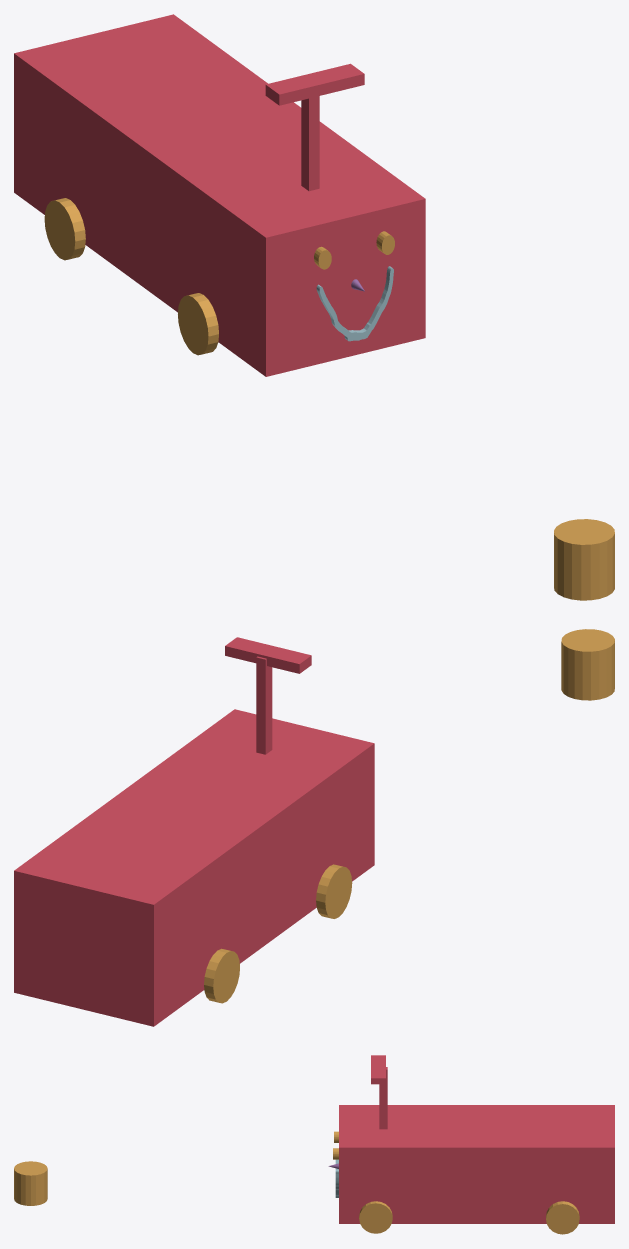
File: bus.glb
The picture shows the model from 3 angles, top to bottom: view 1: azimuth 30°, elevation 25°; view 2: azimuth 150°, elevation 25°; view 3: azimuth 270°, elevation 25°; orthographic projection. The views are drawn at different scales.
Visible parts, largest first — view 1: Mesh_Mesh_head_geo.001_lambert2SG.001; view 2: Mesh_Mesh_head_geo.001_lambert2SG.001; view 3: Mesh_Mesh_head_geo.001_lambert2SG.001.
Part boxes in pixels (<box>): Mesh_Mesh_head_geo.001_lambert2SG.001: <box>14,14,614,600</box>; Mesh_Mesh_head_geo.001_lambert2SG.001: <box>14,629,614,1026</box>; Mesh_Mesh_head_geo.001_lambert2SG.001: <box>14,1055,614,1234</box>.
Bounding box in the file's own units: 71 × 95 × 357.
